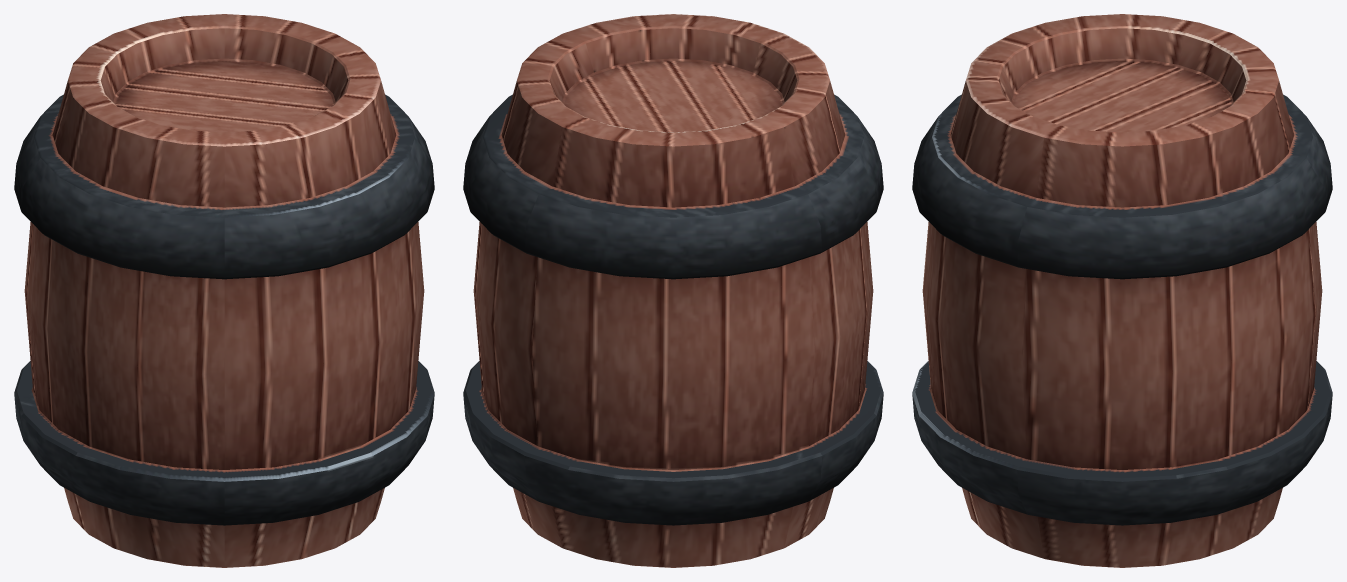
Rendered from PirateBarrel.fbx.
3 renders of one model, left to right at view 1: azimuth 30°, elevation 25°; view 2: azimuth 150°, elevation 25°; view 3: azimuth 270°, elevation 25°, orthographic.
Visible parts, largest first — view 1: Barrel; view 2: Barrel; view 3: Barrel.
Part boxes in pixels (x1=…): Barrel: x1=14, y1=14, x2=434, y2=567; Barrel: x1=463, y1=14, x2=883, y2=567; Barrel: x1=912, y1=14, x2=1332, y2=567.
Size of the model in its own units: 454 by 504 by 454.
Materials: 1 (1 with a texture image).
